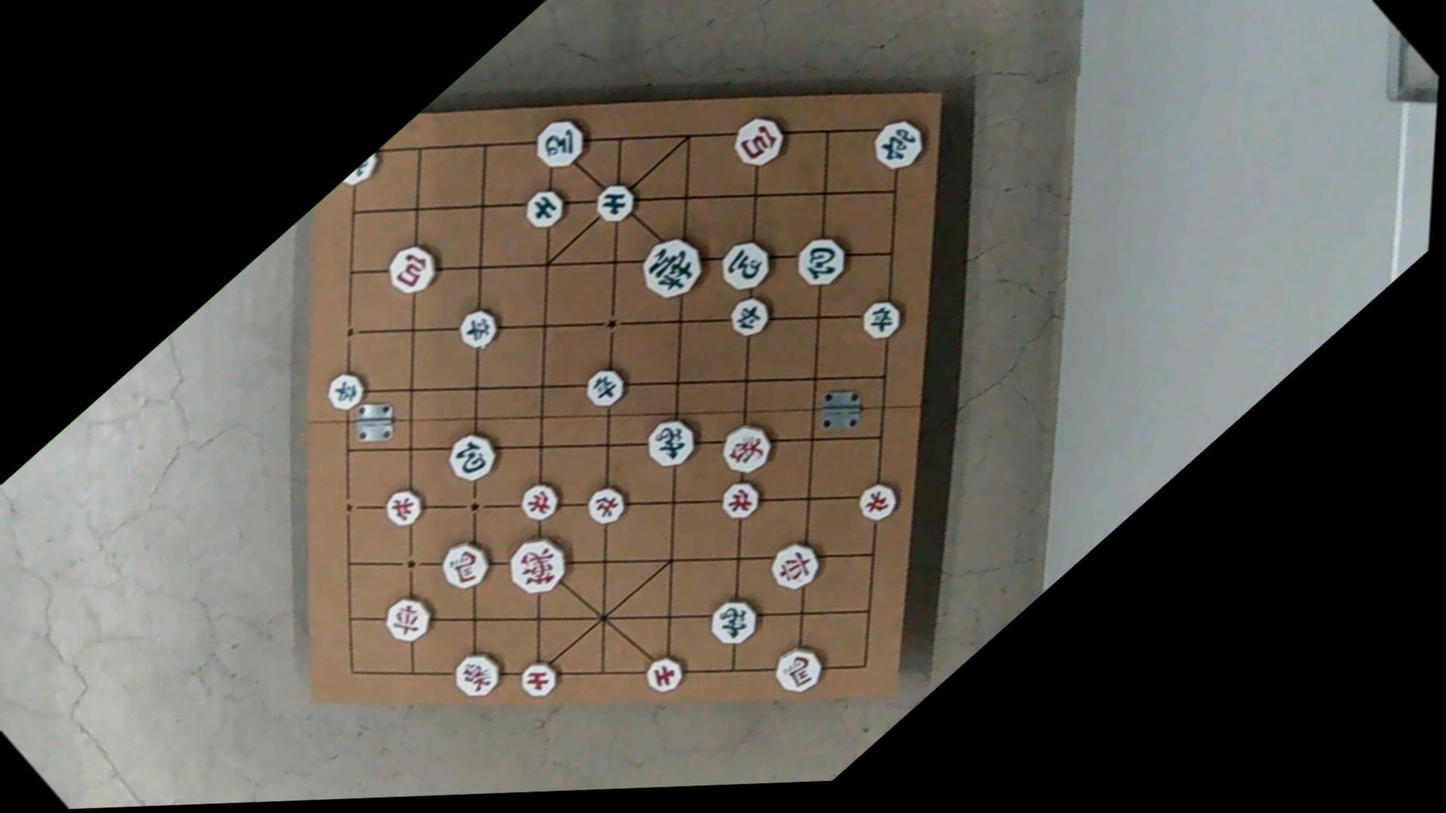cha_green: (862, 108, 934, 177)
cha_red: (760, 531, 828, 598), (374, 586, 439, 649)
jol_green: (448, 300, 505, 355), (850, 291, 907, 346), (718, 288, 774, 343), (575, 361, 631, 415), (319, 364, 372, 415)
jol_red: (709, 473, 764, 527), (577, 480, 632, 533), (514, 473, 568, 525), (378, 481, 432, 533), (850, 475, 904, 527)
ma_green: (709, 230, 779, 299), (523, 111, 593, 178)
ma_red: (428, 532, 497, 599), (764, 635, 832, 701)
po_green: (783, 227, 855, 296), (437, 424, 505, 491)
po_red: (378, 234, 449, 303), (723, 105, 794, 173)
sa_green: (516, 181, 572, 235), (586, 174, 642, 228)
sa_red: (637, 651, 689, 702), (511, 653, 563, 703)
sang_green: (635, 410, 705, 477), (699, 589, 766, 653)
sang_red: (710, 413, 782, 483), (444, 642, 509, 705)
wang_green: (629, 226, 715, 309)
wang_red: (496, 527, 577, 605)
